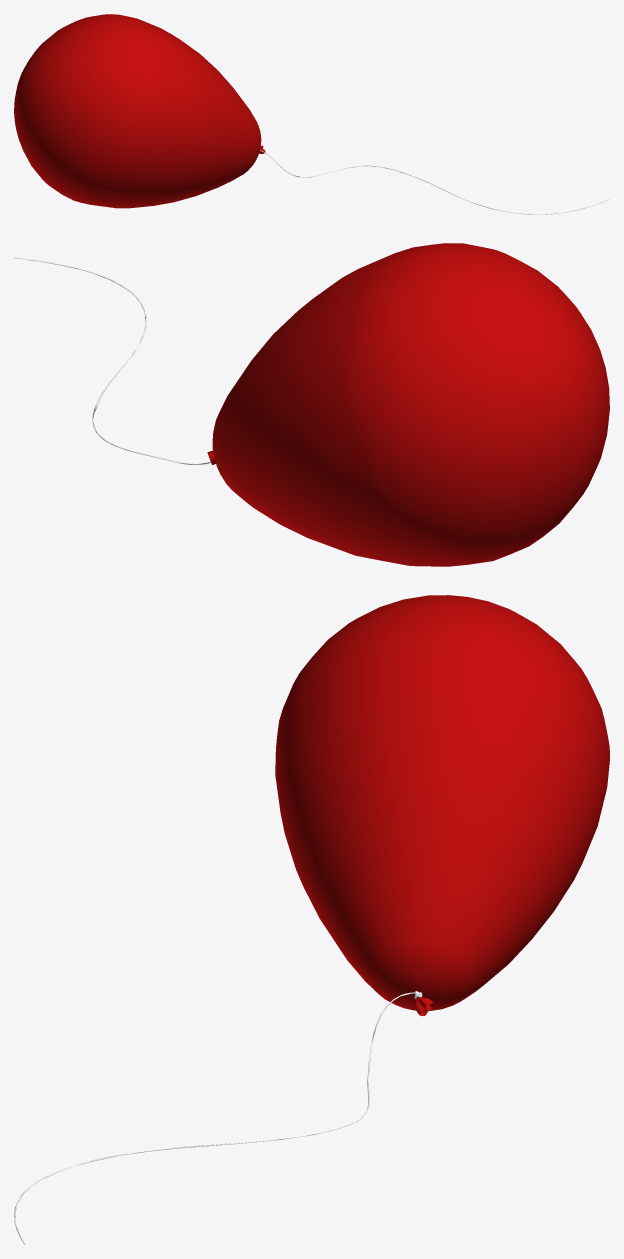
Rendered from Baloon.FBX.
3 renders of one model, top to bottom at view 1: azimuth 30°, elevation 25°; view 2: azimuth 150°, elevation 25°; view 3: azimuth 270°, elevation 25°, orthographic. The views are drawn at different scales.
Visible parts, largest first — view 1: baloon; view 2: baloon; view 3: baloon.
Part boxes in pixels (x1=…): baloon: x1=14, y1=14, x2=609, y2=214; baloon: x1=14, y1=243, x2=609, y2=566; baloon: x1=14, y1=595, x2=609, y2=1244.
Bounding box in the file's own units: 62.07 × 23.34 × 39.79.
